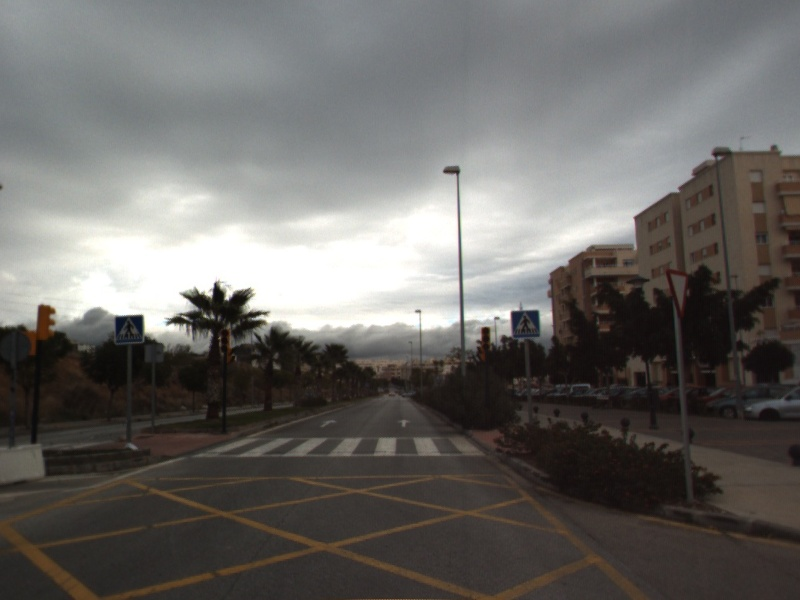STRAIGHT: (318, 417, 339, 429), (395, 417, 413, 429)
